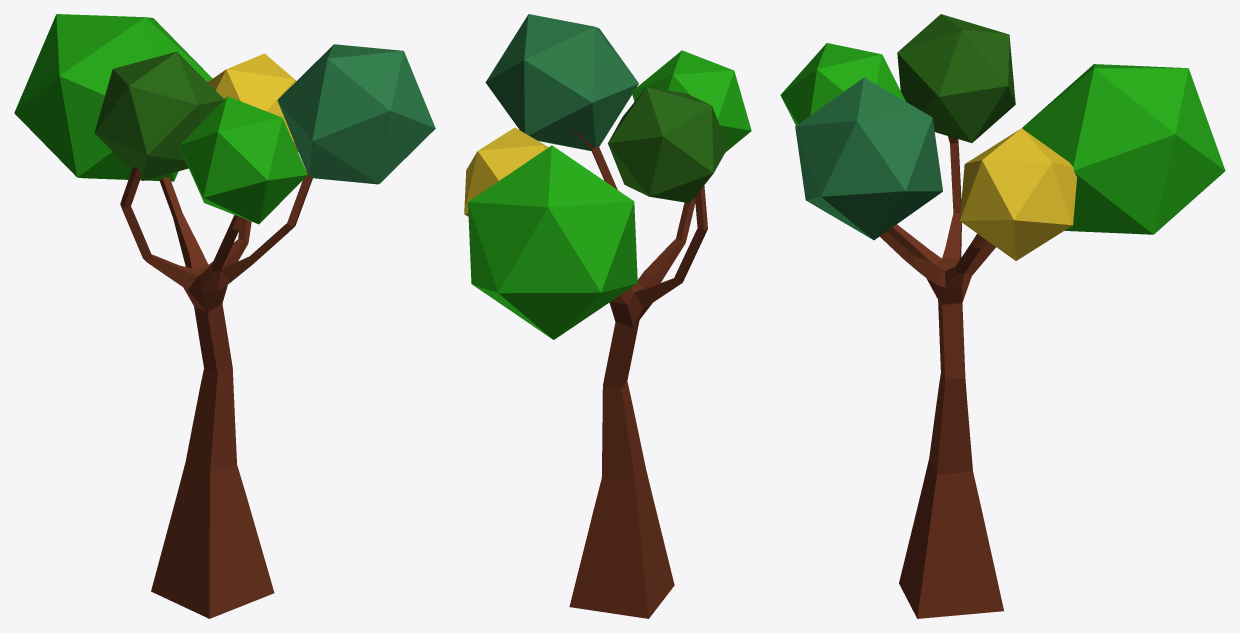
The model's file is Arbol_2.fbx.
3 renders of one model, left to right at view 1: azimuth 30°, elevation 25°; view 2: azimuth 150°, elevation 25°; view 3: azimuth 270°, elevation 25°, orthographic. The views are drawn at different scales.
Visible parts, largest first — view 1: Arbol_G; view 2: Arbol_G; view 3: Arbol_G.
Boxes of the visible parts, <box> form: Arbol_G: <box>14,14,435,618</box>; Arbol_G: <box>464,14,751,618</box>; Arbol_G: <box>780,14,1225,618</box>.
Bounding box in the file's own units: 773 × 1485 × 1078.
